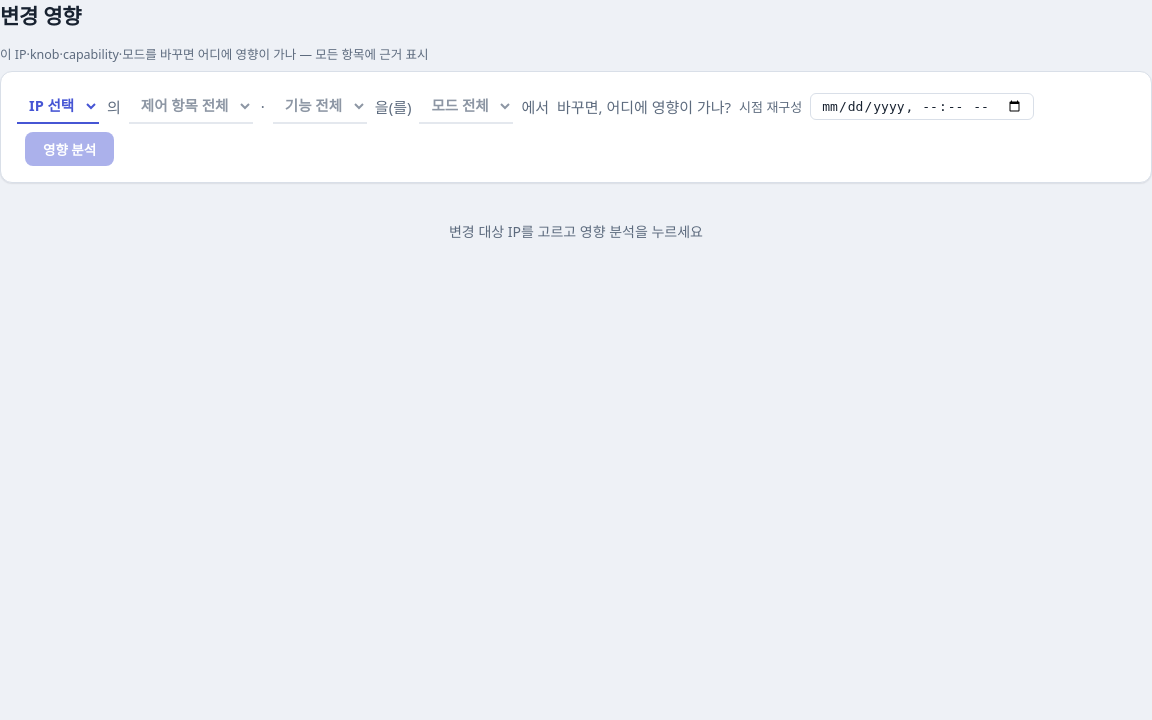
Scenario: ChangeImpactPage › IP 선택 후 분석 실행 시 4분면을 렌더링한다
This screenshot has width=1152, height=720.
Select "ISP" in the dropdown named "무엇을 바꾸나요?": {"x": 58, "y": 106} [17,88,99,124]
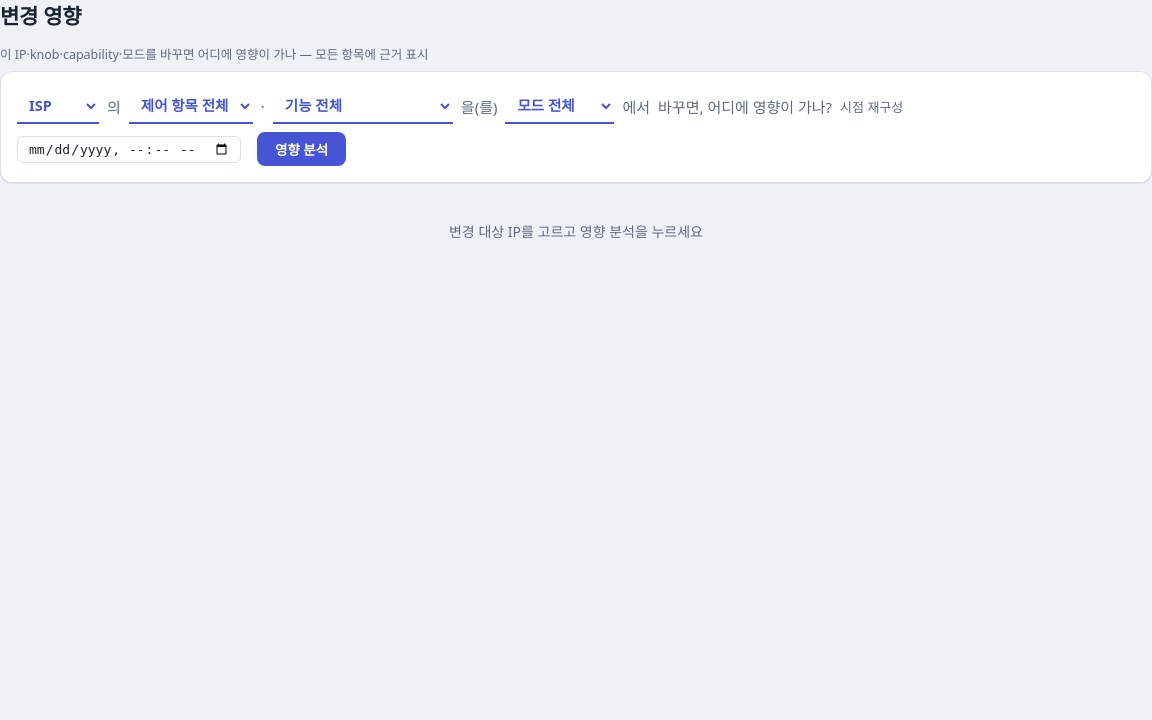
Click the button "영향 분석": {"x": 302, "y": 149} [257,132,346,166]
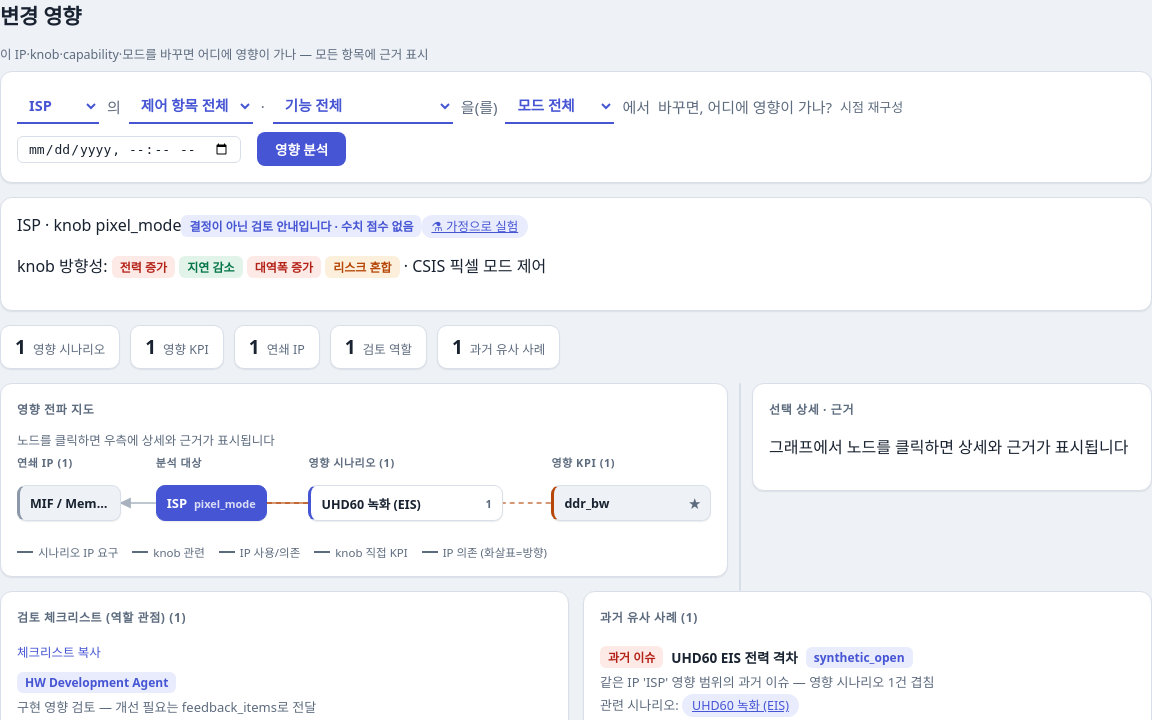
Expected: the text "ISP · knob pixel_mode" is shown, [17,214,182,236]
Expected: the text "영향 시나리오 (1)" is shown, [308,455,395,470]
Expected: the text "영향 KPI (1)" is shown, [551,455,615,470]
